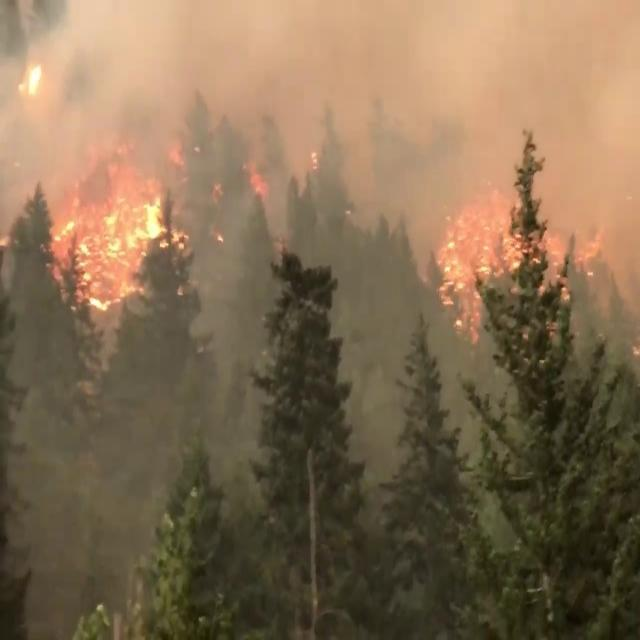Fire: (436, 181, 604, 343), (46, 137, 191, 314), (27, 62, 43, 96)
Smoke: (1, 1, 640, 640)
